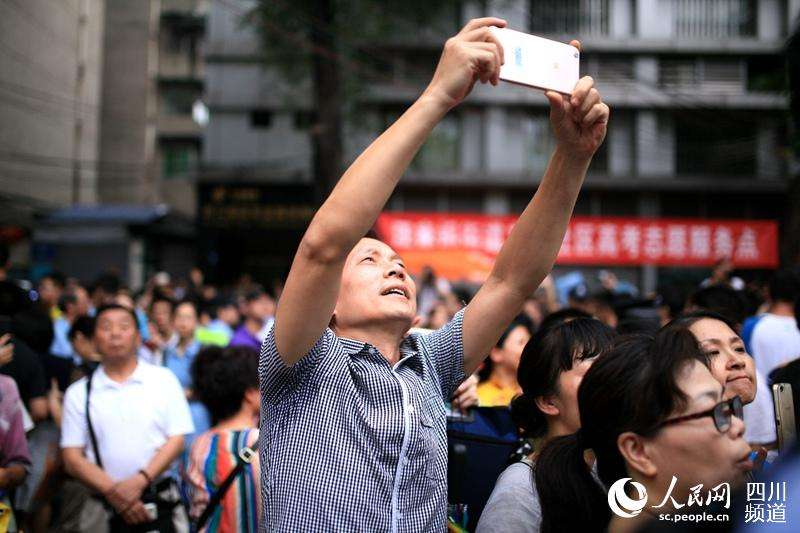taking photos: (419, 15, 613, 159)
